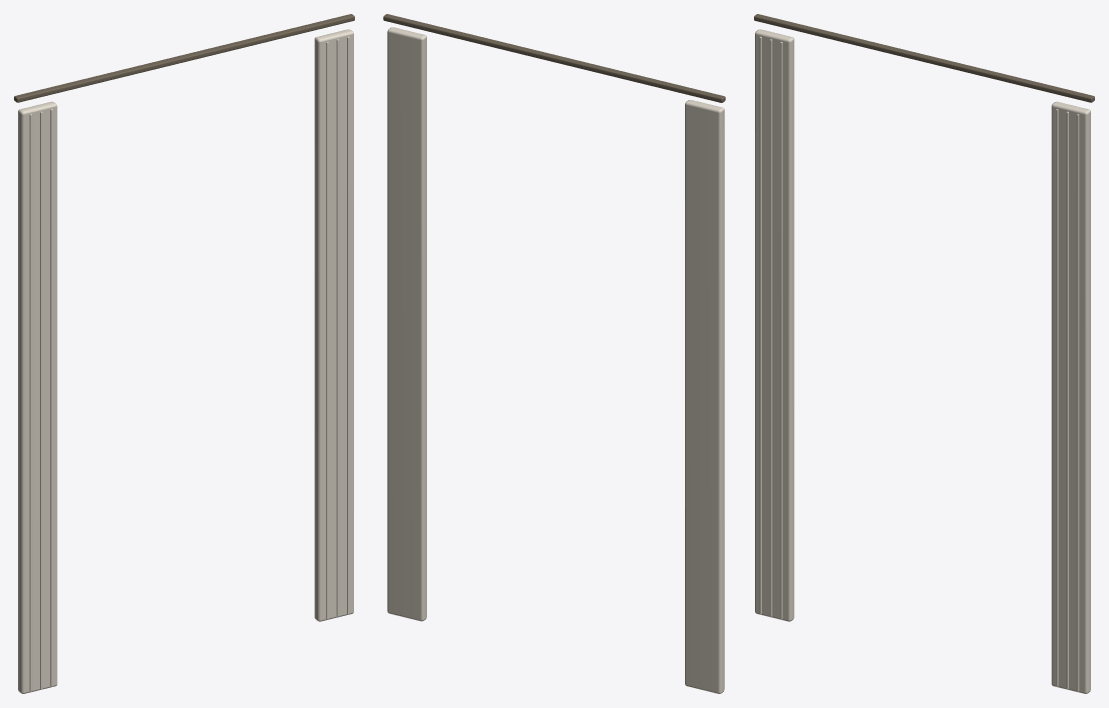
Rendered from balcony-drapes.glb.
3 views of the same model, side by side, from view 1: azimuth 30°, elevation 25°; view 2: azimuth 150°, elevation 25°; view 3: azimuth 330°, elevation 25° (orthographic).
Parts seen in each view (by area): view 1: Curtain rod; view 2: Curtain rod; view 3: Curtain rod.
Part boxes in pixels (box(x1,y1,x2,y2)): Curtain rod: box(14, 14, 354, 693); Curtain rod: box(383, 14, 725, 693); Curtain rod: box(754, 14, 1094, 693).
Size of the model in its own units: 1.3 by 2.19 by 0.05.
